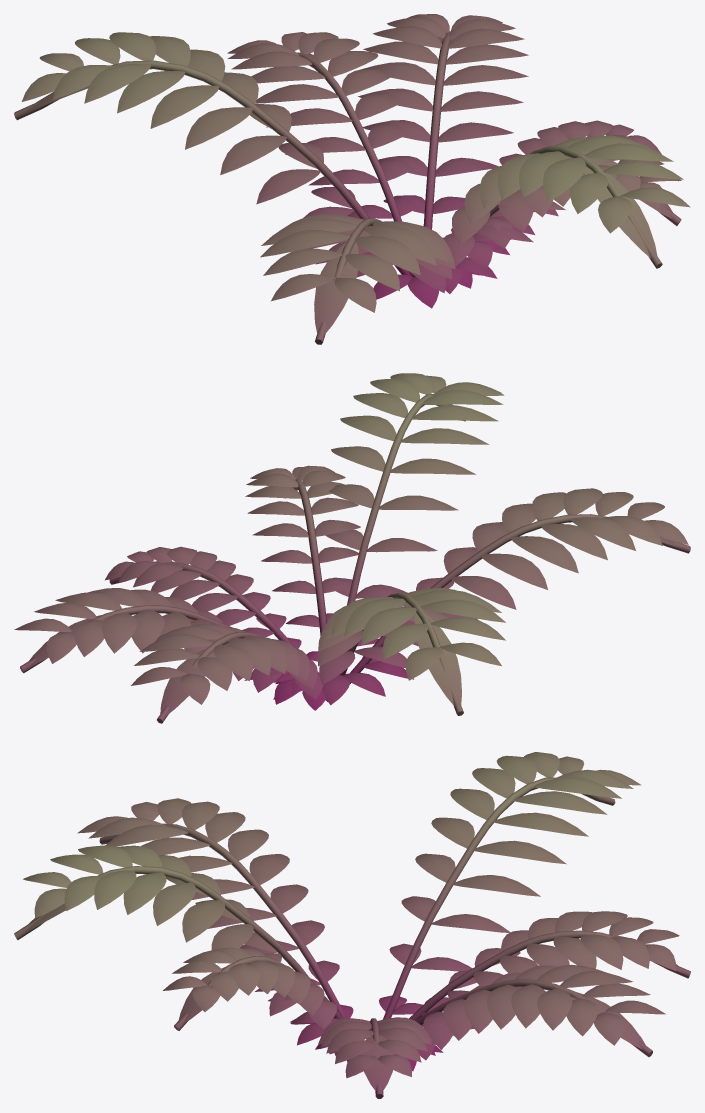
The model's file is fern_02.glb.
The picture shows the model from 3 angles, top to bottom: view 1: azimuth 30°, elevation 25°; view 2: azimuth 150°, elevation 25°; view 3: azimuth 270°, elevation 25°; orthographic projection. The views are drawn at different scales.
Parts seen in each view (by area): view 1: fern_02; view 2: fern_02; view 3: fern_02.
Part boxes in pixels (x1,y1,x2,y2): fern_02: (14, 14, 690, 344); fern_02: (14, 373, 690, 723); fern_02: (14, 752, 690, 1098).
Bounding box in the file's own units: 1.29 × 0.5441 × 1.54.
